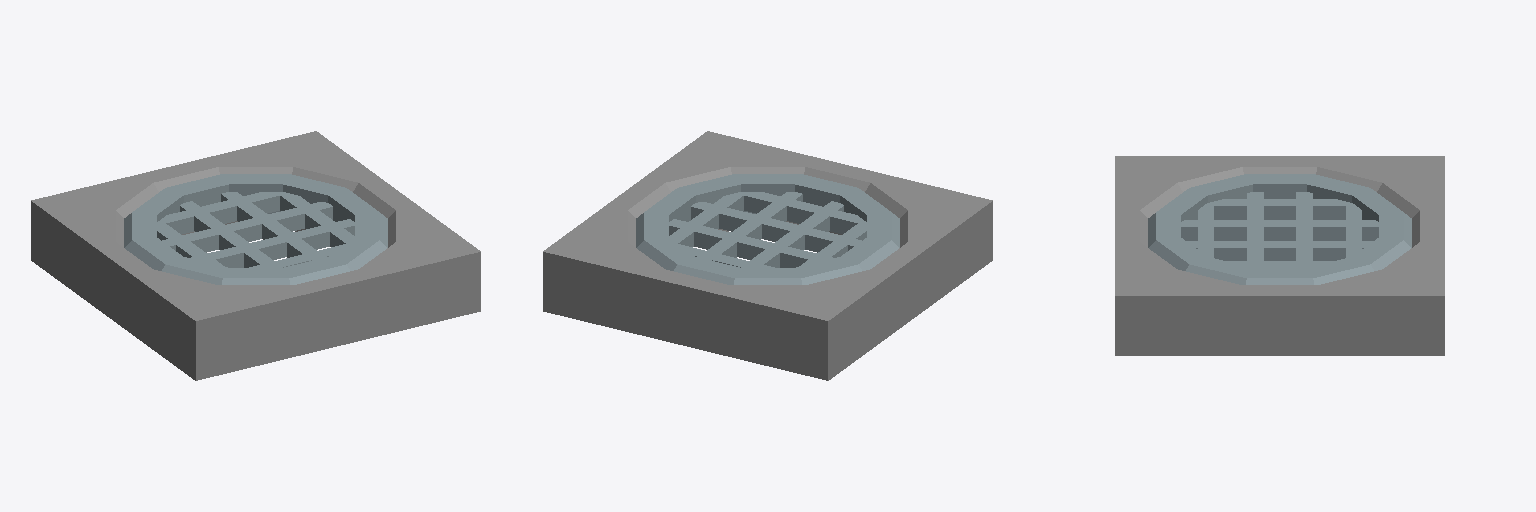
File: struct_floor_grate_round.obj
The picture shows the model from 3 angles: view 1: azimuth 30°, elevation 25°; view 2: azimuth 150°, elevation 25°; view 3: azimuth 270°, elevation 25°; orthographic projection.
Parts seen in each view (by area): view 1: struct_floor_grate_round, struct_floor_grate_round_2; view 2: struct_floor_grate_round, struct_floor_grate_round_2; view 3: struct_floor_grate_round, struct_floor_grate_round_2.
Part boxes in pixels (x1,y1,x2,y2): struct_floor_grate_round: (31,131,480,380); struct_floor_grate_round_2: (124,174,387,284); struct_floor_grate_round: (543,131,992,380); struct_floor_grate_round_2: (636,174,899,284); struct_floor_grate_round: (1115,156,1444,355); struct_floor_grate_round_2: (1148,174,1411,284).
Size of the model in its own units: 1 by 0.2 by 1.